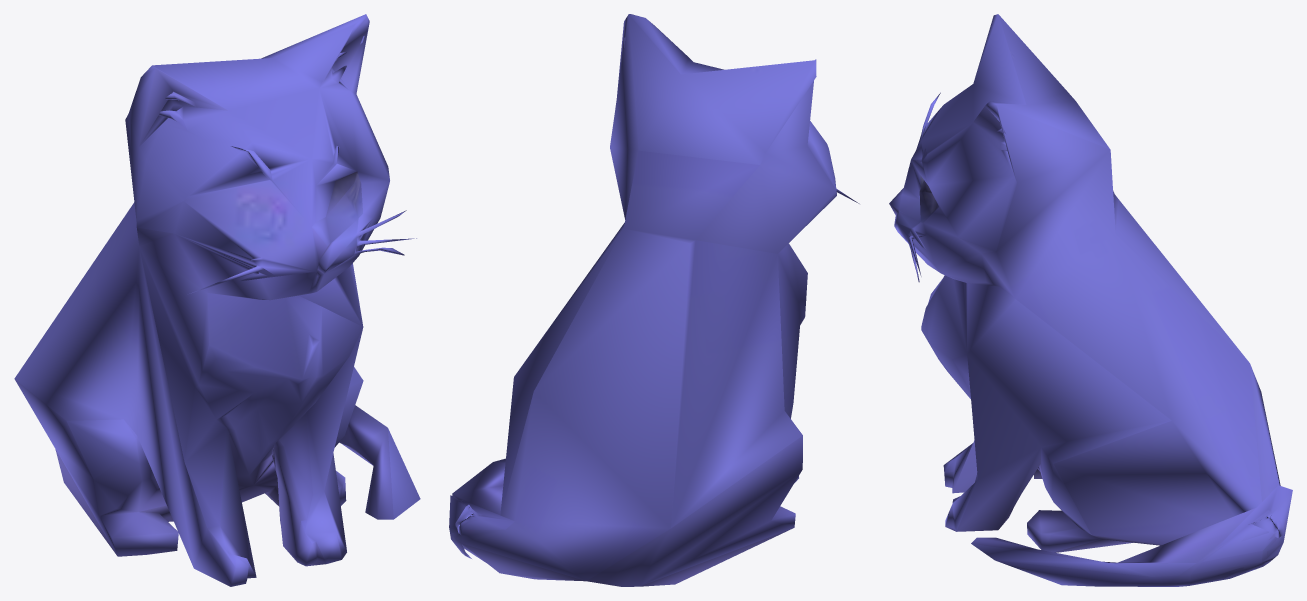
File: model.progressive.glb
3 views of the same model, side by side, from view 1: azimuth 30°, elevation 25°; view 2: azimuth 150°, elevation 25°; view 3: azimuth 270°, elevation 25° (orthographic). The views are drawn at different scales.
Visible parts, largest first — view 1: texture_pbr_20250901; view 2: texture_pbr_20250901; view 3: texture_pbr_20250901.
Boxes of the visible parts, box(x1,y1,x2,y2) form: texture_pbr_20250901: box(14, 14, 420, 586); texture_pbr_20250901: box(449, 14, 859, 586); texture_pbr_20250901: box(889, 14, 1292, 586).
Bounding box in the file's own units: 1.32 × 1.9 × 1.54.
1 material, 1 textured.
